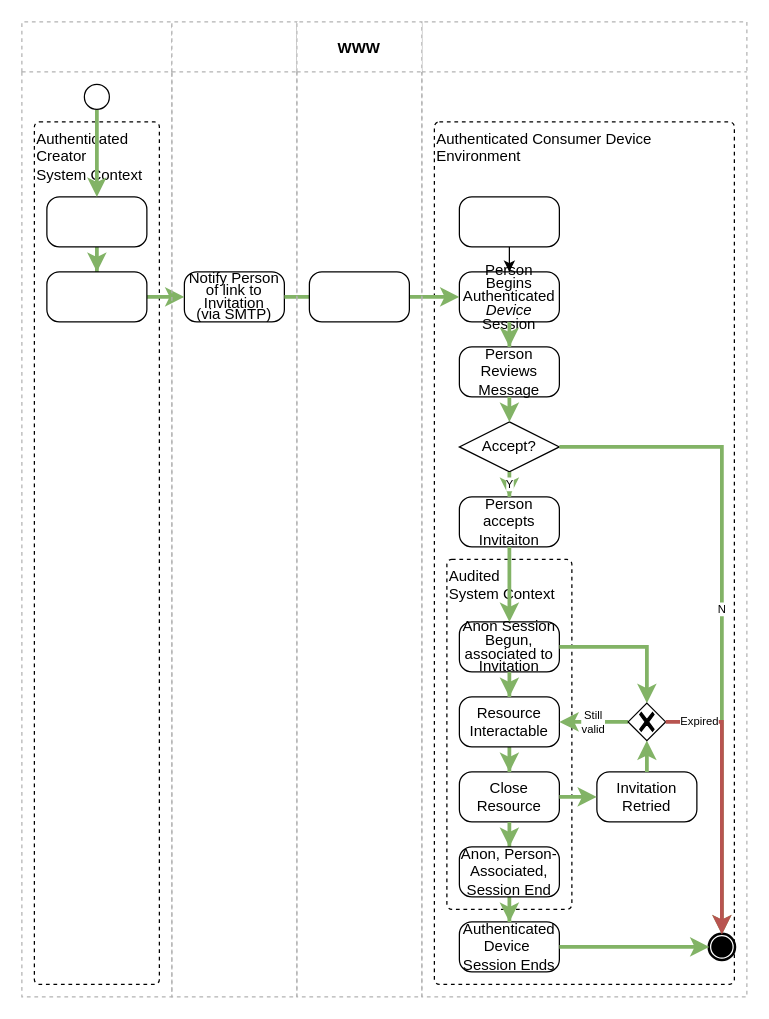
The diagram is 769 pixels wide and 1019 high, and some of its shapes have lost their labels. Here are the shapes that lost their labels. From the top down, the box of each, then its label:
(46, 196, 147, 247): Create Resource
(458, 196, 559, 247): Person provides AuthN Credentials
(46, 271, 147, 322): Create Invitation to Persons w/ Permissions
(308, 271, 409, 322): Intermediary MTAs
(21, 21, 172, 997): User
(171, 21, 297, 997): System
(421, 21, 747, 997): (Non-User) Person
